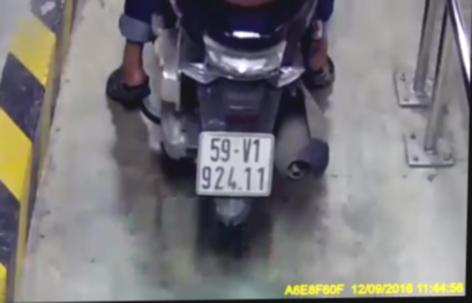License_Plate: (186, 127, 282, 204)
